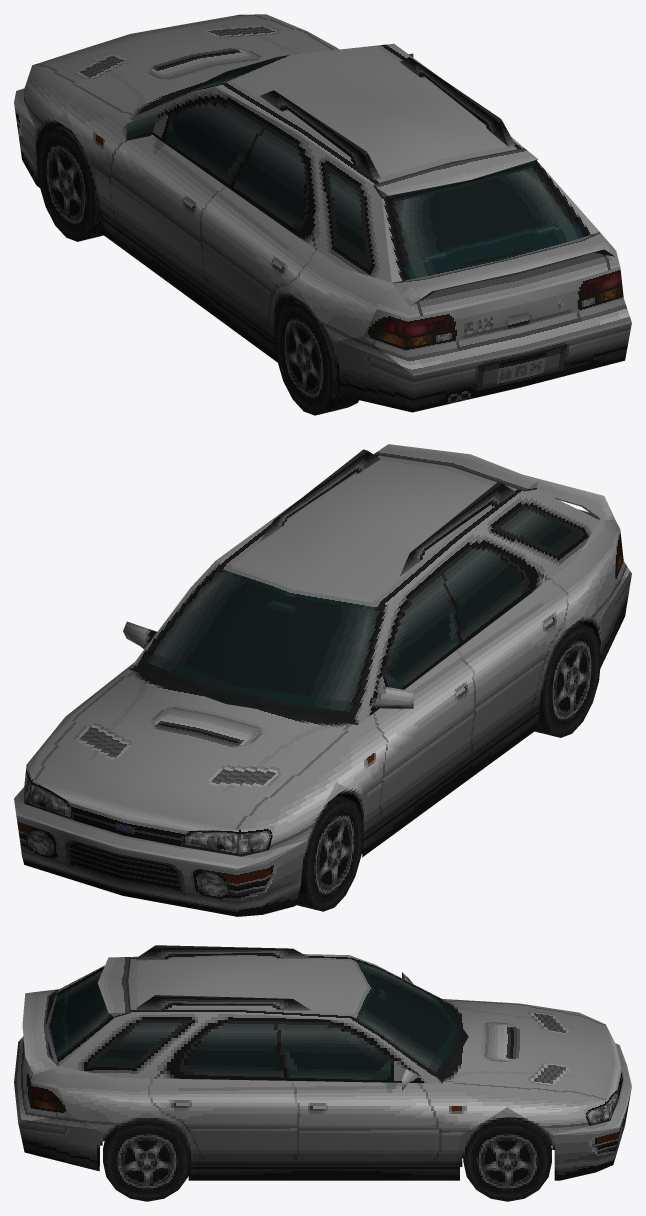
The model's file is _sipwn.glb.
3 views of the same model, one above another, from view 1: azimuth 30°, elevation 25°; view 2: azimuth 150°, elevation 25°; view 3: azimuth 270°, elevation 25° (orthographic). The views are drawn at different scales.
Visible parts, largest first — view 1: Native body LOD0, Native wheel 2, Native wheel 0; view 2: Native body LOD0, Native wheel 0, Native wheel 2; view 3: Native body LOD0, Native wheel 3, Native wheel 1.
Boxes of the visible parts, x1,y1,x2,y2 form: Native body LOD0: (14, 14, 631, 412); Native wheel 2: (274, 300, 358, 415); Native wheel 0: (37, 125, 103, 241); Native body LOD0: (14, 444, 631, 916); Native wheel 0: (296, 795, 363, 911); Native wheel 2: (534, 622, 601, 737); Native body LOD0: (14, 945, 631, 1180); Native wheel 3: (103, 1120, 191, 1201); Native wheel 1: (463, 1117, 551, 1201).
Bounding box in the file's own units: 1.77 × 1.4 × 4.34.
14 materials, 12 textured.
